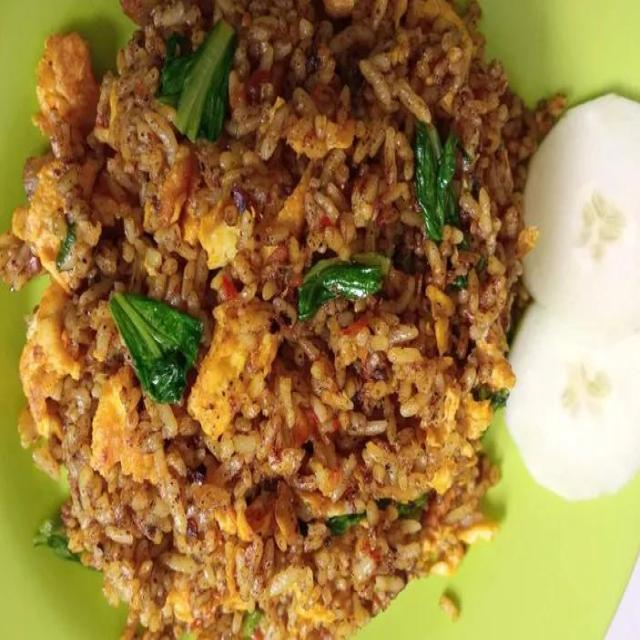Nasi Goreng: (1, 0, 566, 637)
